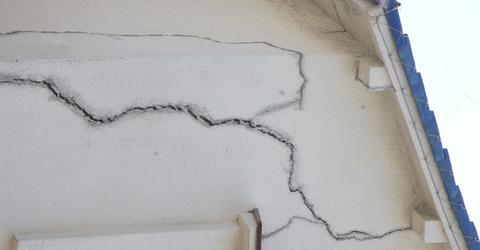crack: (0, 31, 413, 240)
